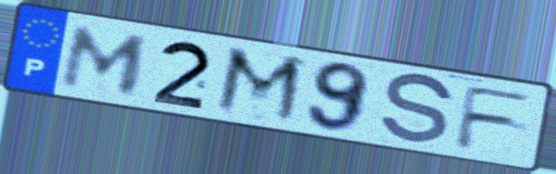2: (152, 39, 214, 111)
9: (306, 60, 376, 136)
F: (451, 83, 538, 152)
M: (210, 43, 310, 129), (56, 23, 154, 98)
S: (376, 72, 458, 148)
